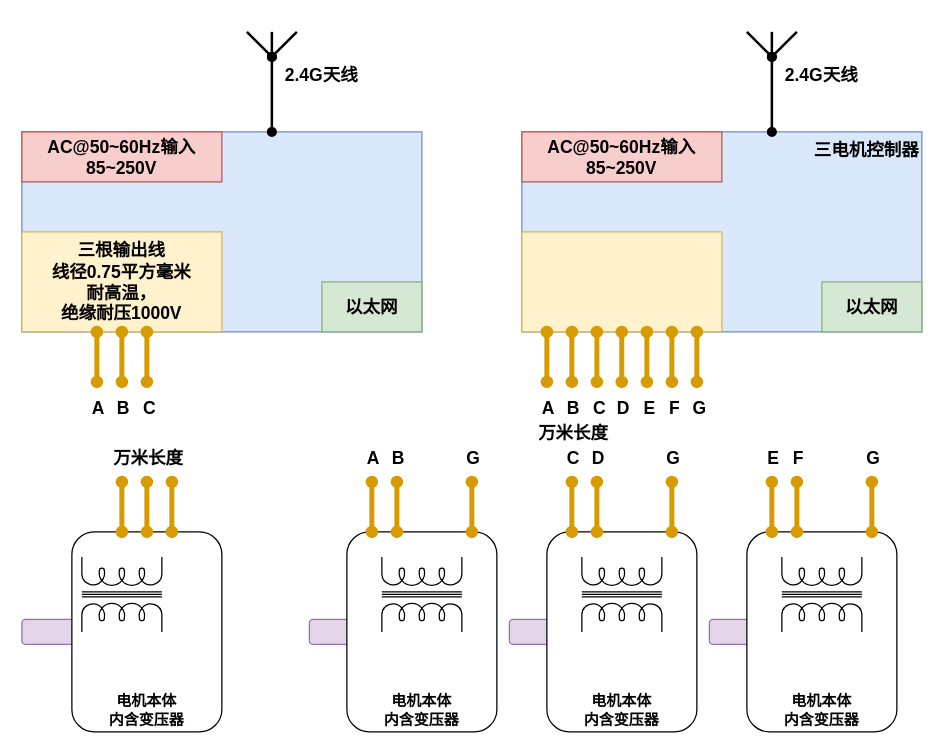
Image size: 944x754. Some labels were removed from this diagram. Each missing label, with the box of its shape:
七根输出线 线径0.75平方毫米 耐高温， 绝缘耐压1000V: (521, 231, 722, 332)
单电机控制器: (21, 131, 422, 332)
